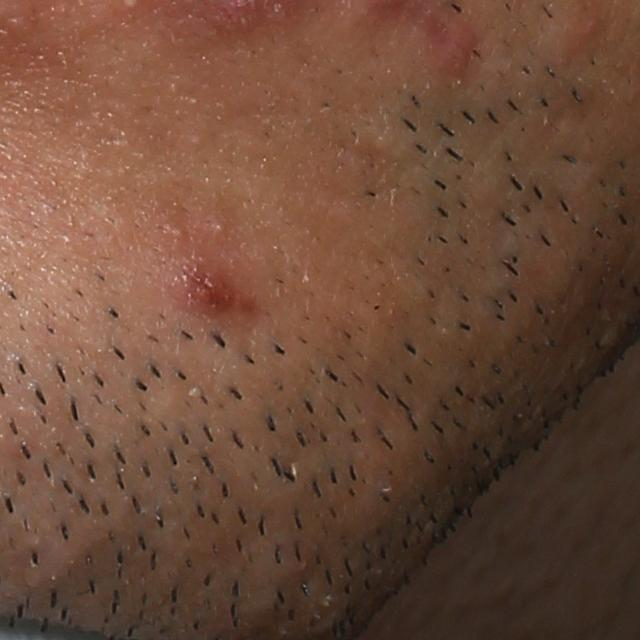papule: (158, 242, 231, 317), (423, 17, 484, 82)
